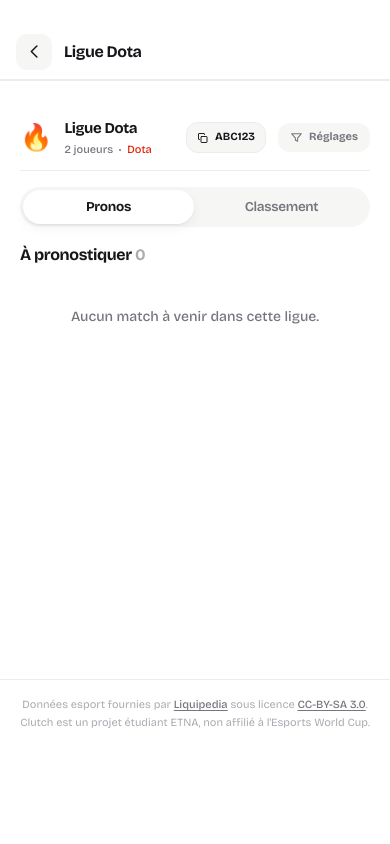
Test: GroupPage › switches to classement tab and shows ranked members
Click the tab "Classement". click: (282, 207)
box: [196,190,367,224]
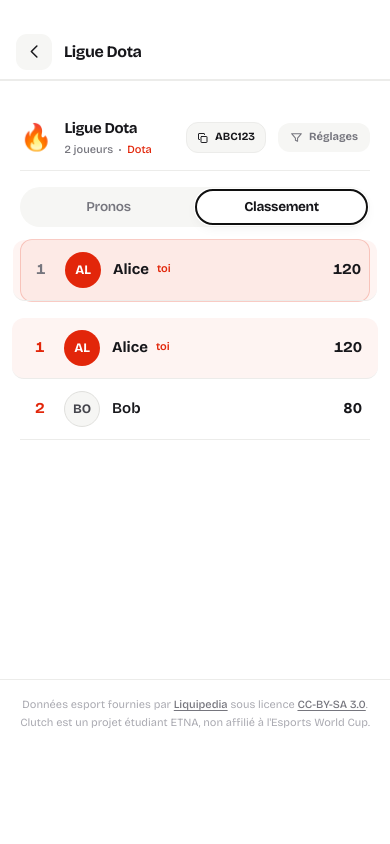
Expected: the 1st text "Alice" is shown, [113,260,149,278]
Expected: the 1st text "120" is shown, [333,258,361,281]
Expected: the text "Bob" is shown, [112,399,141,417]
